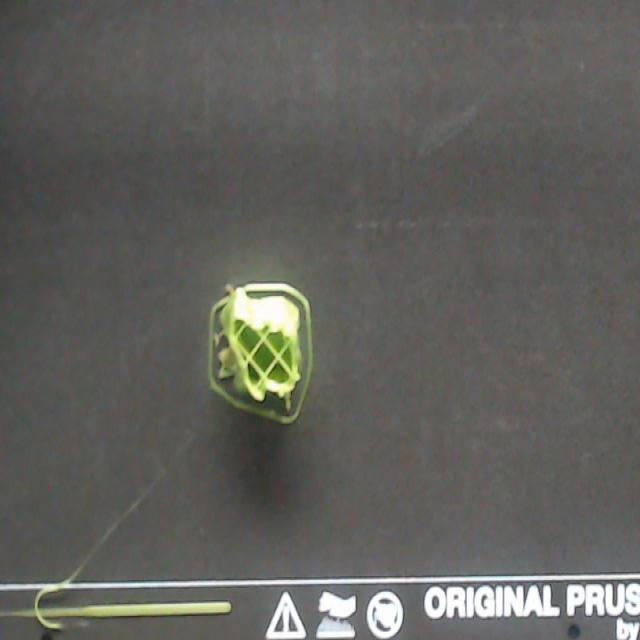mistake: (217, 331, 225, 344), (226, 284, 240, 291)
